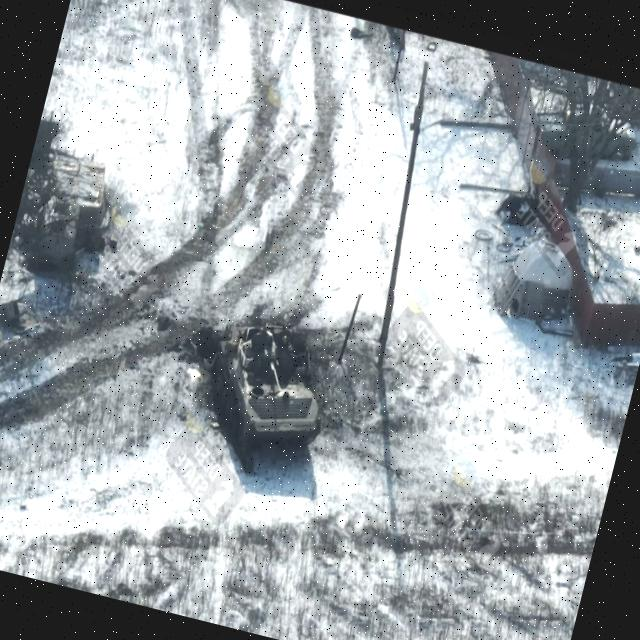AIFV: (194, 314, 344, 470)
